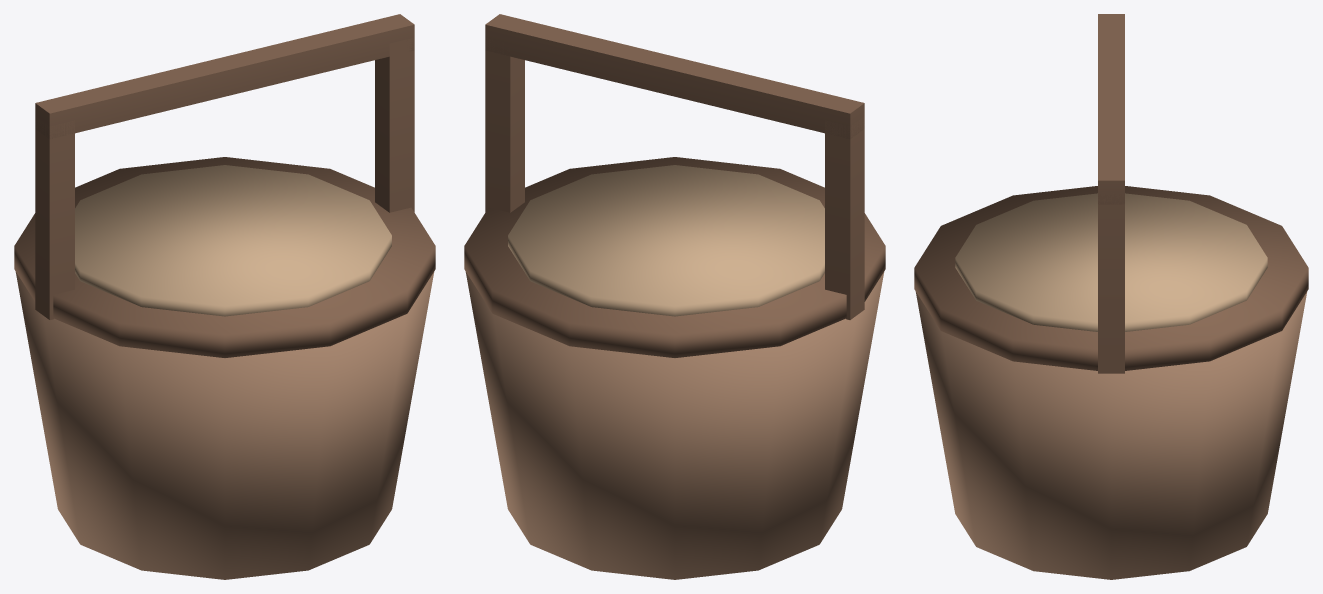
The model's file is prop-or-bucket-sand.glb.
3 views of the same model, side by side, from view 1: azimuth 30°, elevation 25°; view 2: azimuth 150°, elevation 25°; view 3: azimuth 270°, elevation 25° (orthographic). The views are drawn at different scales.
Parts seen in each view (by area): view 1: prop-or-bucket-sand; view 2: prop-or-bucket-sand; view 3: prop-or-bucket-sand.
Part boxes in pixels (box(x1,y1,x2,y2)): prop-or-bucket-sand: box(14, 14, 435, 579); prop-or-bucket-sand: box(464, 14, 885, 579); prop-or-bucket-sand: box(914, 14, 1308, 579).
Bounding box in the file's own units: 0.3 × 0.35 × 0.3.
